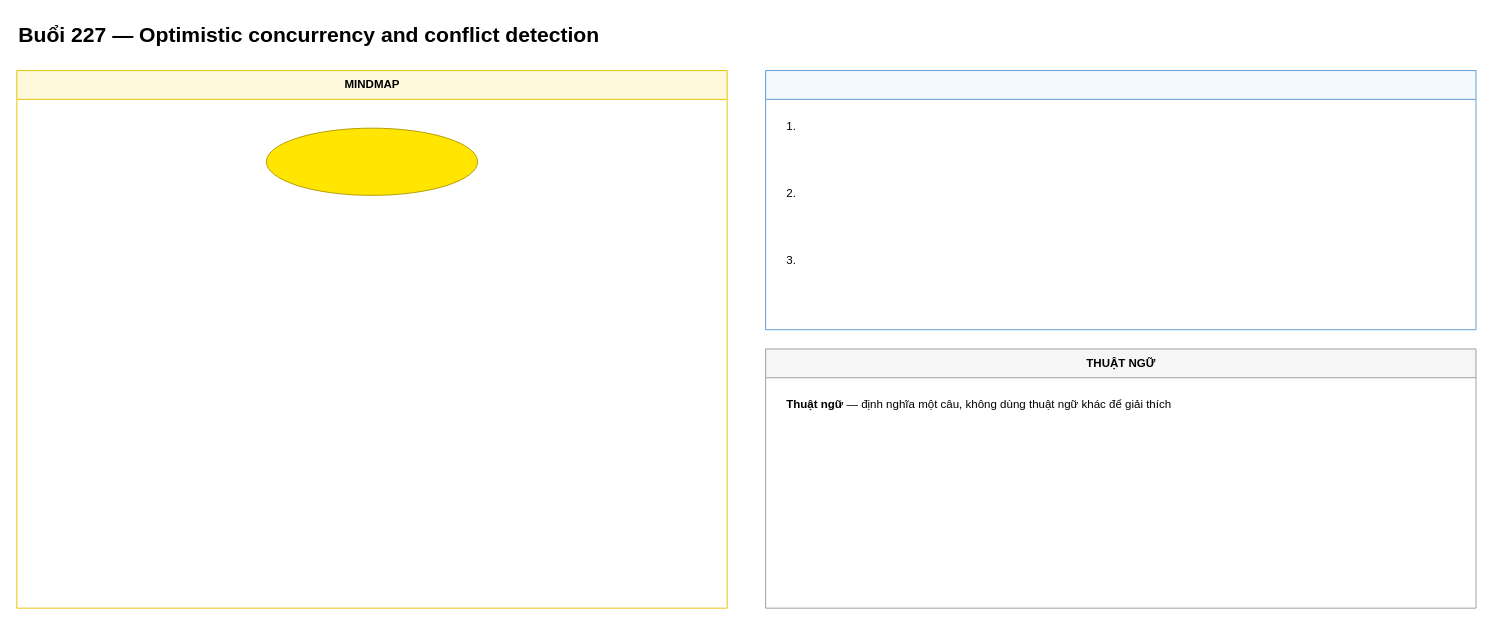
This 1493x625 diagram has some shape labels left out. Each missing label, with the box of its shape:
KEY TAKEAWAY — ba điều phải nhớ: (765, 70, 1476, 330)
Optimistic concurrency and conflict detection: (265, 127, 478, 195)
